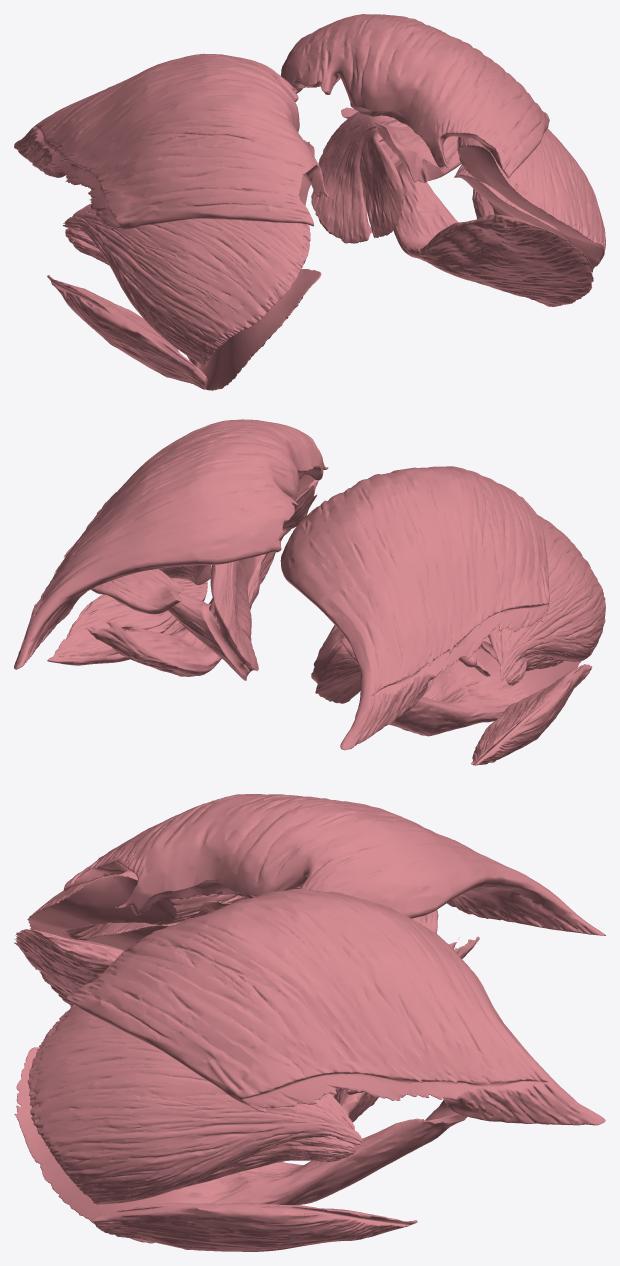
File: hanche-muscles.glb
The picture shows the model from 3 angles, top to bottom: view 1: azimuth 30°, elevation 25°; view 2: azimuth 150°, elevation 25°; view 3: azimuth 270°, elevation 25°; orthographic projection. The views are drawn at different scales.
Visible parts, largest first — view 1: grand_fessier_droit, grand_fessier_gauche, moyen_fessier_droit, iliaque_gauche, obturateur_interne_gauche, moyen_fessier_gauche, tenseur_du_fascia_lata_droit, iliaque_droit, piriforme_gauche, petit_fessier_gauche, petit_fessier_droit; view 2: grand_fessier_droit, grand_fessier_gauche, moyen_fessier_droit, iliaque_droit, iliaque_gauche, tenseur_du_fascia_lata_gauche, tenseur_du_fascia_lata_droit, obturateur_interne_gauche, carre_femoral_gauche, obturateur_externe_gauche, obturateur_externe_droit, petit_fessier_droit (+3 smaller); view 3: grand_fessier_gauche, grand_fessier_droit, moyen_fessier_gauche, iliaque_gauche, tenseur_du_fascia_lata_gauche, moyen_fessier_droit, iliaque_droit, petit_fessier_gauche, petit_fessier_droit, obturateur_externe_gauche.
Boxes of the visible parts, box(x1,y1,x2,y2) form: grand_fessier_droit: box(14, 53, 328, 229); grand_fessier_gauche: box(281, 14, 549, 178); moyen_fessier_droit: box(62, 203, 310, 366); iliaque_gauche: box(393, 163, 593, 306); obturateur_interne_gauche: box(311, 111, 403, 243); moyen_fessier_gauche: box(457, 128, 605, 269); tenseur_du_fascia_lata_droit: box(47, 275, 207, 389); iliaque_droit: box(187, 268, 321, 390); piriforme_gauche: box(374, 122, 460, 182); petit_fessier_gauche: box(454, 165, 572, 244); petit_fessier_droit: box(65, 228, 109, 265); grand_fessier_droit: box(280, 466, 549, 750); grand_fessier_gauche: box(14, 419, 328, 669); moyen_fessier_droit: box(487, 515, 605, 680); iliaque_droit: box(389, 647, 580, 736); iliaque_gauche: box(85, 474, 318, 676); tenseur_du_fascia_lata_gauche: box(47, 578, 207, 665); tenseur_du_fascia_lata_droit: box(471, 664, 592, 765); obturateur_interne_gauche: box(210, 560, 258, 672); carre_femoral_gauche: box(91, 569, 182, 614); obturateur_externe_gauche: box(167, 592, 249, 680); obturateur_externe_droit: box(315, 643, 477, 703); petit_fessier_droit: box(496, 654, 563, 685); grand_fessier_gauche: box(64, 889, 605, 1125); grand_fessier_droit: box(63, 794, 605, 935); moyen_fessier_gauche: box(27, 1005, 364, 1204); iliaque_gauche: box(14, 1047, 467, 1243); tenseur_du_fascia_lata_gauche: box(93, 1203, 417, 1251); moyen_fessier_droit: box(27, 871, 301, 940); iliaque_droit: box(14, 929, 479, 1006); petit_fessier_gauche: box(175, 1135, 355, 1189); petit_fessier_droit: box(87, 921, 181, 950); obturateur_externe_gauche: box(336, 1088, 378, 1121).
Bounding box in the file's own units: 294 × 156 × 285.
